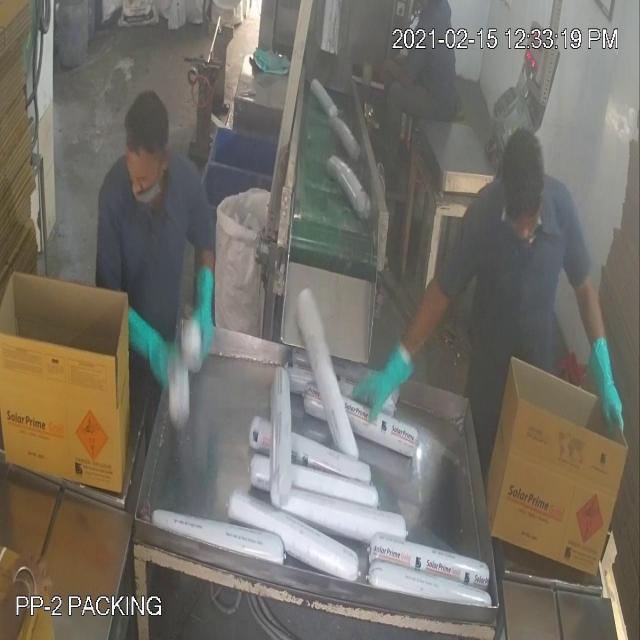Gloves: (46, 44, 606, 383)
